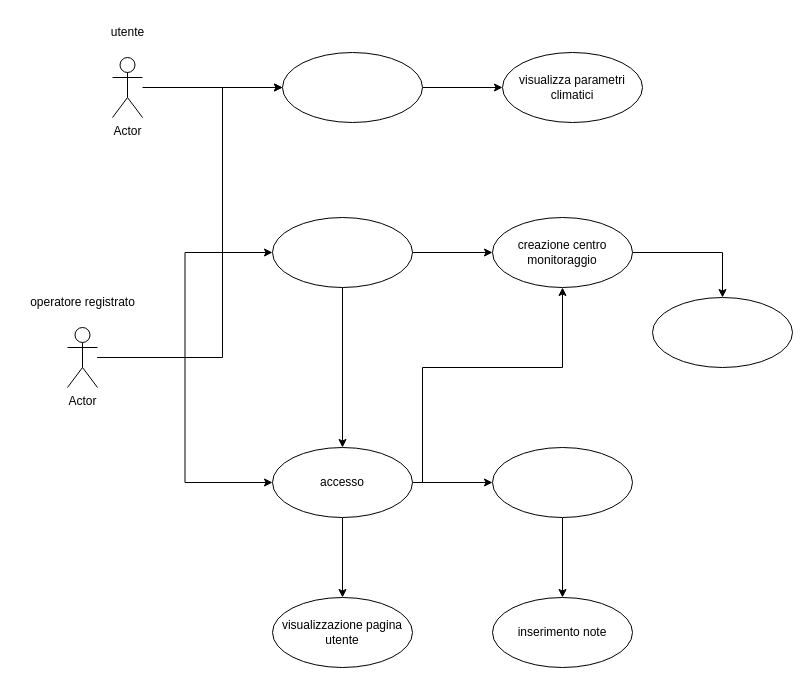
The diagram is 810 pixels wide and 685 high, and some of its shapes have lost their labels. Here are the shapes that lost their labels. From the top down, the centre of each, then its label:
the point at 352,87: ricerca area interesse
the point at 342,252: registrazione
the point at 722,332: aggiunta aree d'interesse
the point at 562,482: inserimento parametri climatici
